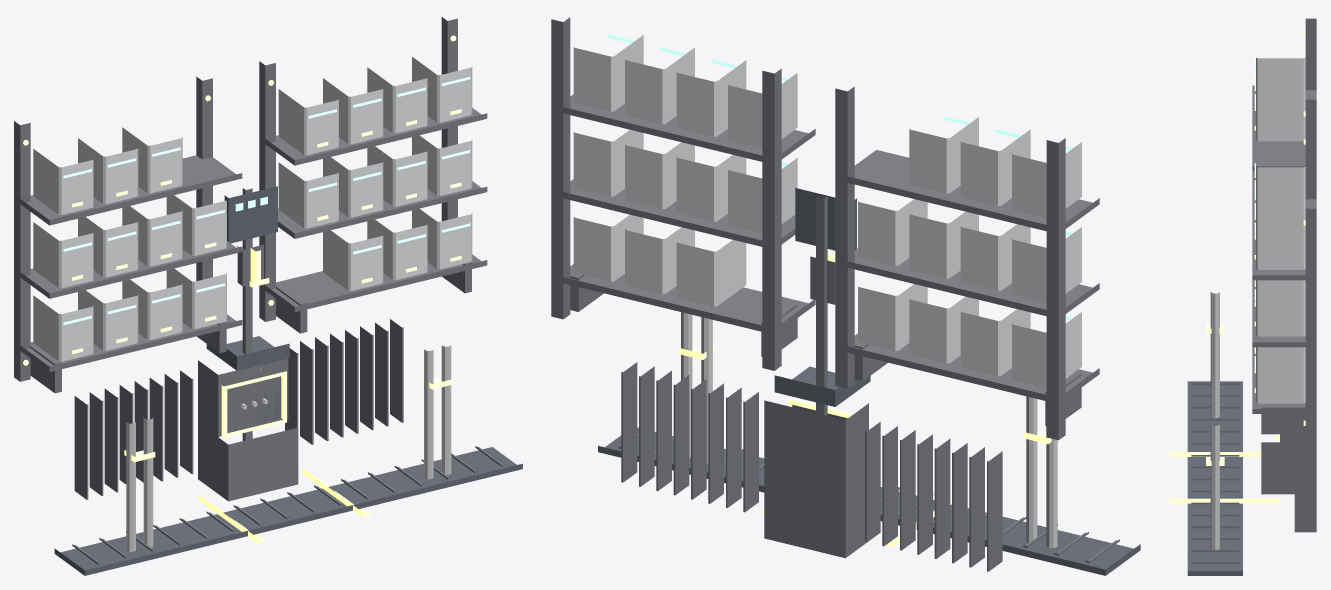
The model's file is iter_05.glb.
3 views of the same model, side by side, from view 1: azimuth 30°, elevation 25°; view 2: azimuth 150°, elevation 25°; view 3: azimuth 270°, elevation 25° (orthographic). The views are drawn at different scales.
Visible parts, largest first — view 1: Cells_R, Cells_L, Ladder_Rails_L, Ladder_Rails_R, Busway_Trench_Cover, Port_Stand, Heat_Sink_Fins_R, Heat_Sink_Fins, Riser_Cables, Status_Panel, Trench_Grate_Bars, Inverter_Block (+8 smaller); view 2: Cells_R, Cells_L, Ladder_Rails_L, Ladder_Rails_R, Heat_Sink_Fins_R, Heat_Sink_Fins, Port_Stand, Busway_Trench_Cover, Riser_Cables, Panel_Post, Inverter_Block, Status_Panel (+2 smaller); view 3: Cells_R, Busway_Trench_Cover, Ladder_Rails_R, Cells_L, Ladder_Rails_L, Riser_Cables, Heat_Sink_Fins_R, Port_Stand, Trench_Grate_Bars, Cantilever_Arms_R, Guide_Rails, Cable_Saddles.
Boxes of the visible parts, bbox=[...] form: Cells_R: bbox=[278, 57, 472, 290]; Cells_L: bbox=[33, 127, 226, 361]; Ladder_Rails_L: bbox=[14, 76, 242, 381]; Ladder_Rails_R: bbox=[259, 17, 487, 321]; Busway_Trench_Cover: bbox=[54, 447, 522, 575]; Port_Stand: bbox=[198, 358, 298, 501]; Heat_Sink_Fins_R: bbox=[285, 319, 403, 444]; Heat_Sink_Fins: bbox=[74, 370, 193, 499]; Riser_Cables: bbox=[126, 345, 451, 551]; Status_Panel: bbox=[224, 186, 277, 243]; Trench_Grate_Bars: bbox=[72, 446, 504, 564]; Inverter_Block: bbox=[206, 336, 289, 370]; Cells_R: bbox=[573, 35, 797, 306]; Cells_L: bbox=[858, 117, 1081, 387]; Ladder_Rails_L: bbox=[835, 86, 1099, 440]; Ladder_Rails_R: bbox=[551, 17, 815, 370]; Heat_Sink_Fins_R: bbox=[621, 362, 758, 512]; Heat_Sink_Fins: bbox=[865, 422, 1002, 571]; Port_Stand: bbox=[764, 400, 880, 558]; Busway_Trench_Cover: bbox=[598, 427, 1140, 575]; Riser_Cables: bbox=[681, 312, 1057, 547]; Panel_Post: bbox=[816, 196, 827, 415]; Inverter_Block: bbox=[774, 366, 870, 406]; Status_Panel: bbox=[795, 188, 856, 250]; Cells_R: bbox=[1256, 166, 1305, 403]; Busway_Trench_Cover: bbox=[1187, 381, 1242, 575]; Ladder_Rails_R: bbox=[1252, 127, 1316, 442]; Cells_L: bbox=[1256, 57, 1305, 141]; Ladder_Rails_L: bbox=[1252, 18, 1316, 194]; Riser_Cables: bbox=[1210, 292, 1219, 550]; Heat_Sink_Fins_R: bbox=[1294, 434, 1316, 532]; Port_Stand: bbox=[1261, 434, 1294, 494]; Trench_Grate_Bars: bbox=[1191, 383, 1239, 563]; Cantilever_Arms_R: bbox=[1261, 407, 1305, 434]; Guide_Rails: bbox=[1169, 452, 1279, 503]; Cable_Saddles: bbox=[1206, 324, 1224, 465].
Size of the model in its own units: 2.5 by 2.2 by 0.8.
